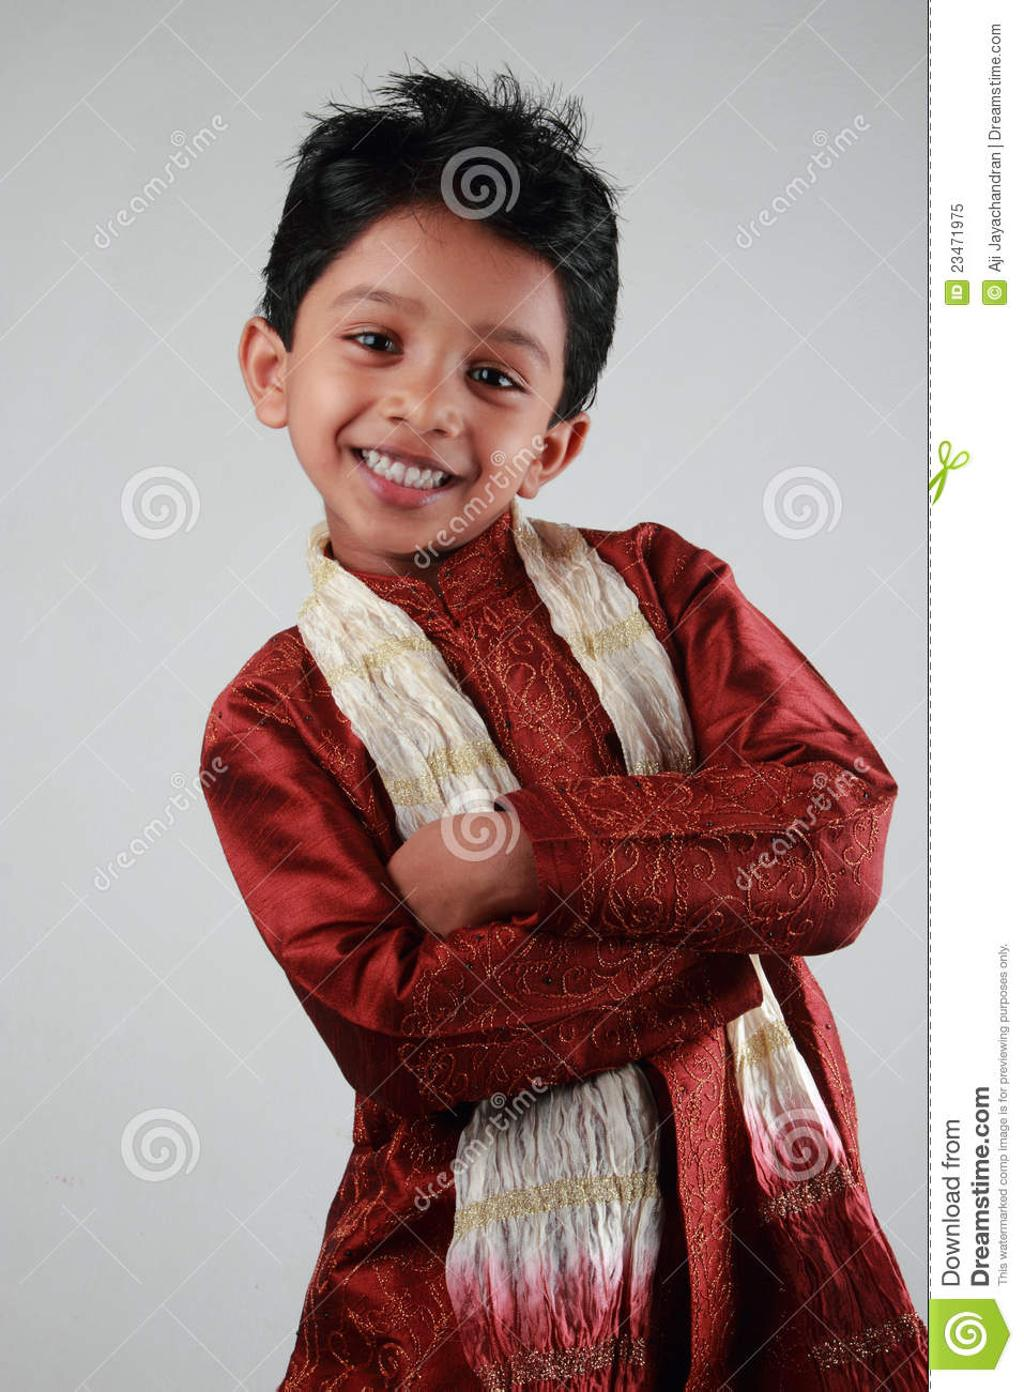face: (288, 204, 565, 552)
